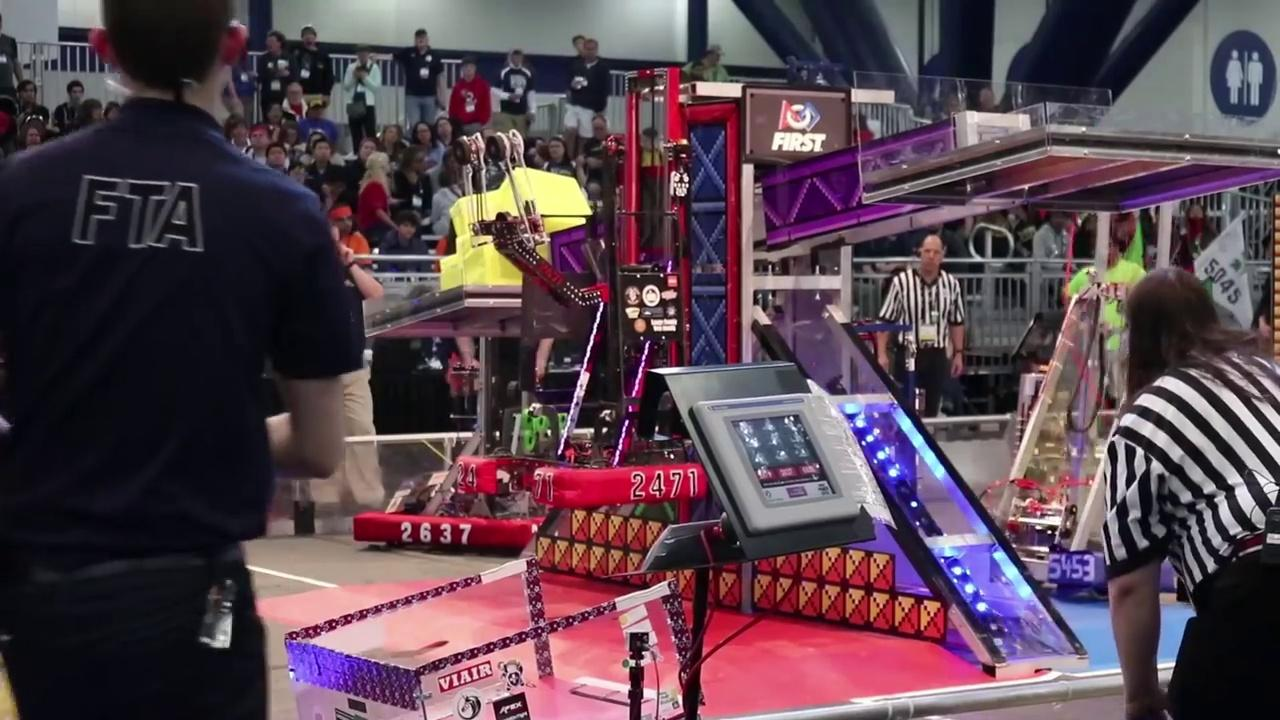robot: (454, 198, 712, 505), (353, 438, 536, 552)
